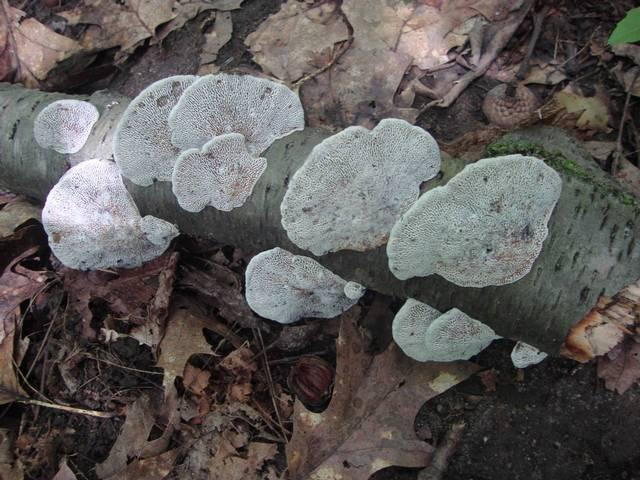poisonous_mushroom: (28, 66, 456, 256), (385, 152, 562, 288), (388, 286, 574, 379), (40, 157, 179, 272), (243, 245, 366, 324)
